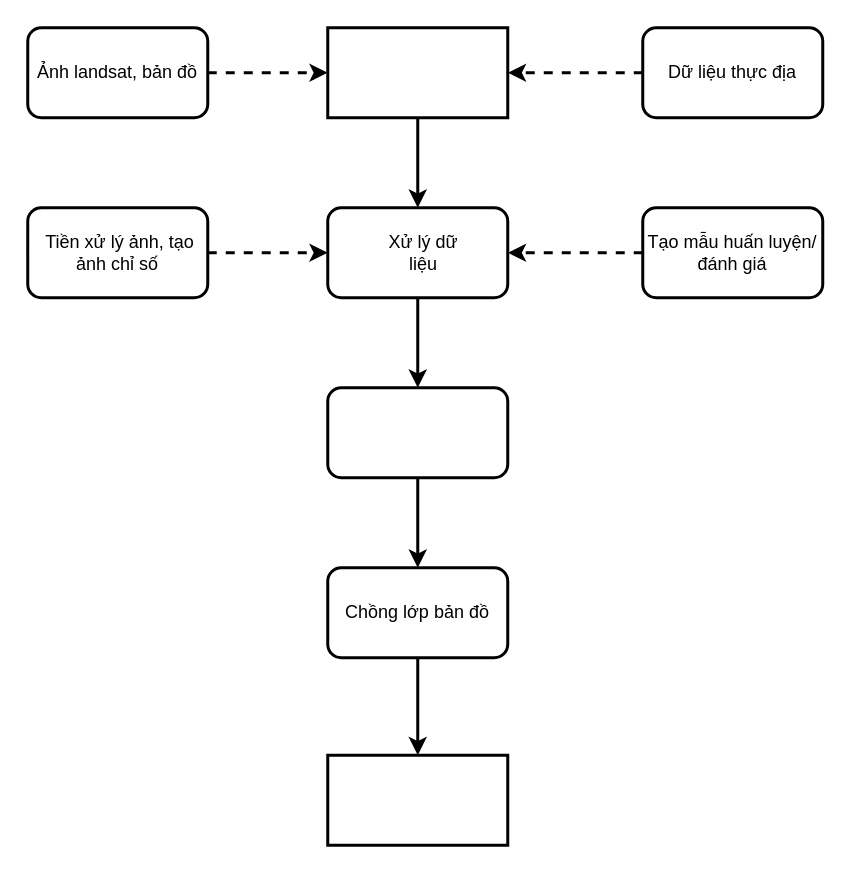
Image size: 849x872. Some labels were removed from this diagram. The shapes that lost their labels are listed below. From the top down, each one's centre as x and y in pixels, then its label:
[417,72]: Thu thập dữ liệu
[417,432]: Giải đoán ảnh
[417,799]: Lập bản đồ biến động rừng
